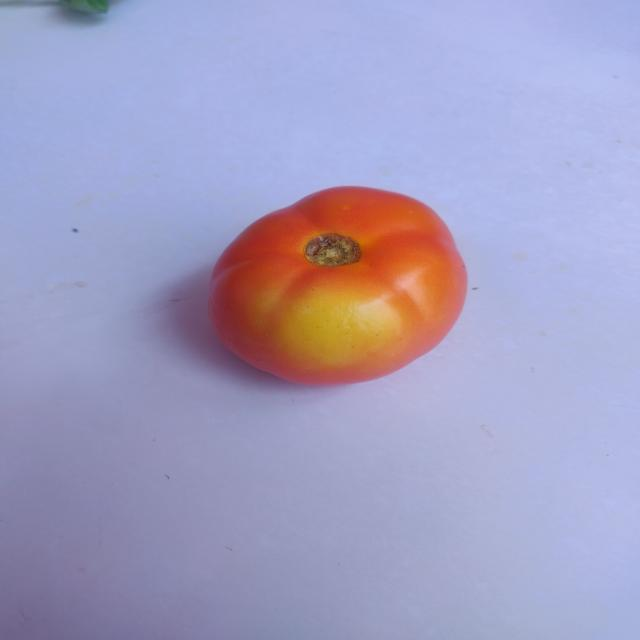Tomato: (188, 180, 477, 400)
